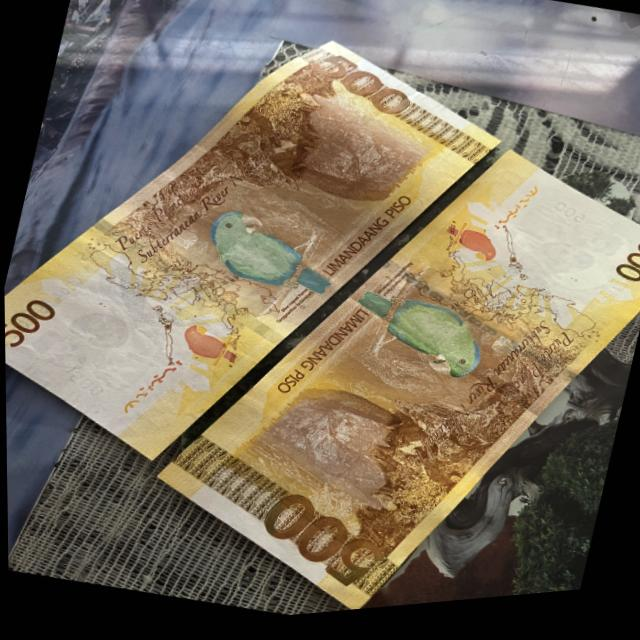500_big_parrot: (339, 280, 495, 402), (193, 200, 339, 312)
500_parrot_watermark: (177, 323, 240, 373), (439, 225, 503, 274)
value_watermark: (60, 367, 107, 402), (544, 206, 589, 238)
watermark: (21, 280, 174, 415), (500, 190, 640, 319)
